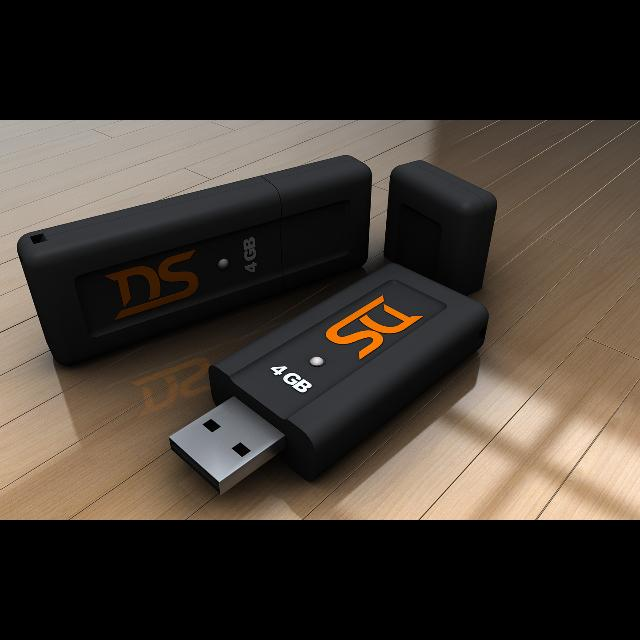USB-Flash-Drive: (166, 255, 494, 515)
